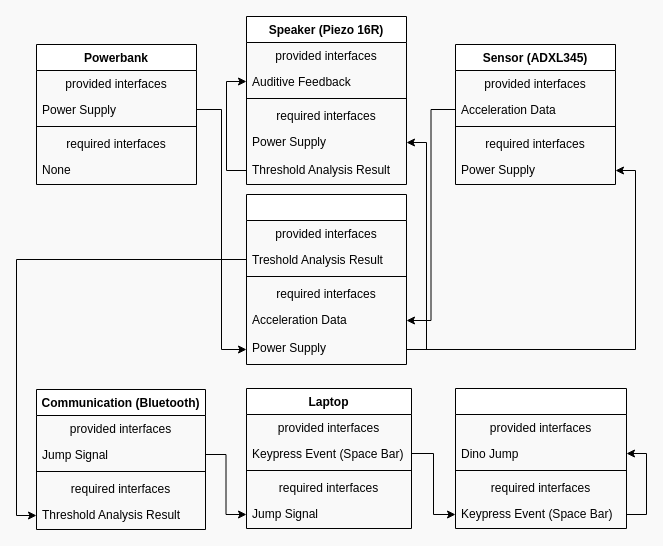
Some shapes in this 663 by 546 pixel diagram are drawn without their labels. Each missing label, with the box of its shape:
Dino-Game: (454, 388, 626, 528)
Microcontroller (ESP-32): (246, 194, 406, 364)
